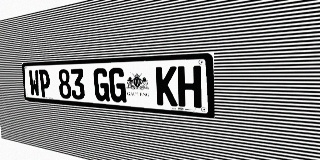3: (70, 69, 85, 100)
8: (58, 69, 72, 99)
G: (109, 67, 126, 103), (93, 68, 110, 102)
H: (178, 66, 201, 108)
K: (156, 66, 177, 106)
P: (38, 69, 51, 97)
W: (28, 70, 40, 97)
